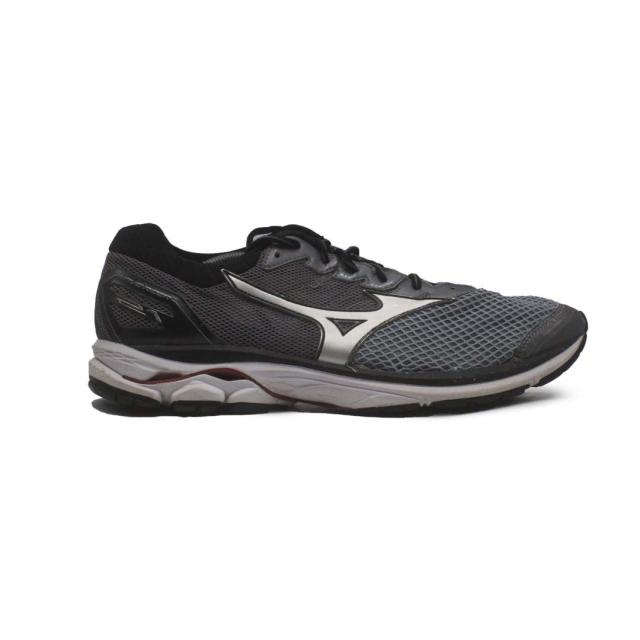heel: (96, 222, 210, 355)
midsole: (90, 327, 588, 413)
uppersole: (189, 223, 586, 379)
